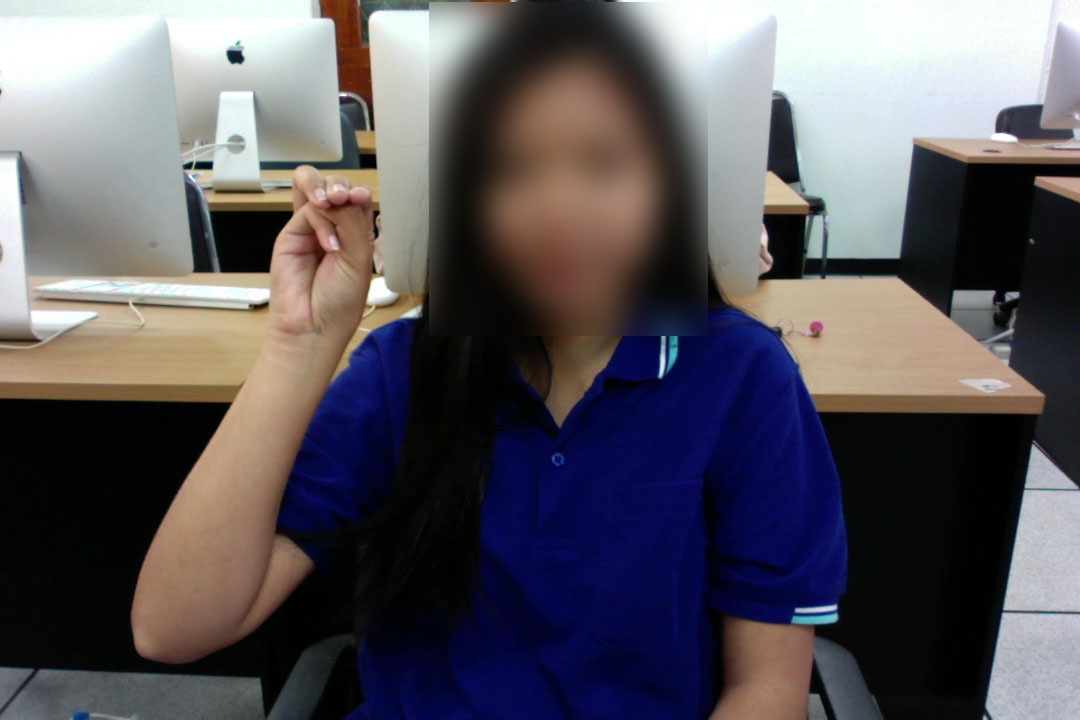mor: (267, 156, 379, 359)
